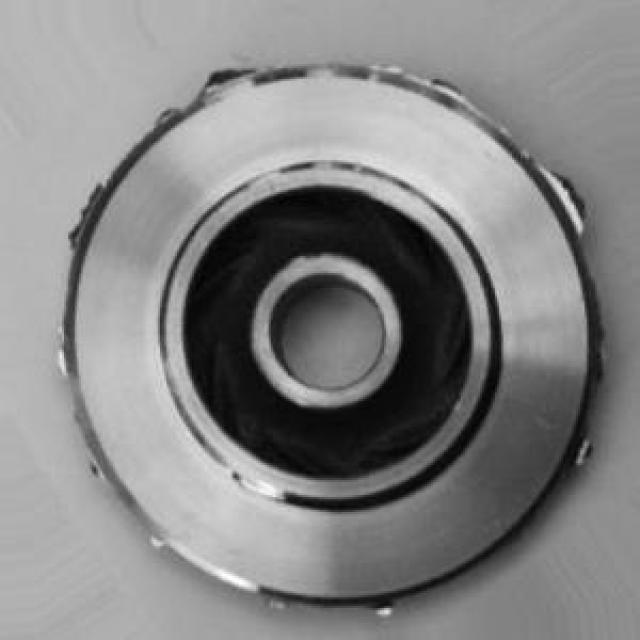Defect: (548, 151, 595, 225)
